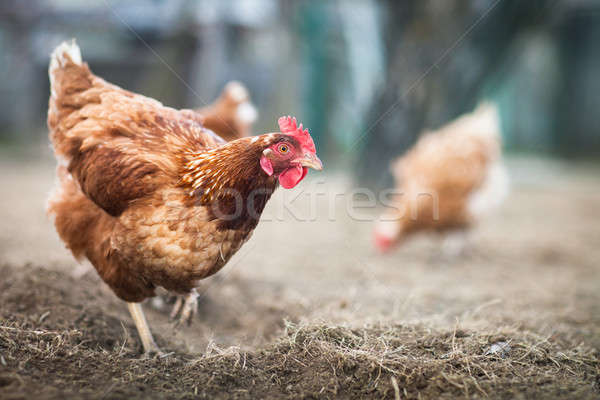chicken: (44, 34, 326, 361)
